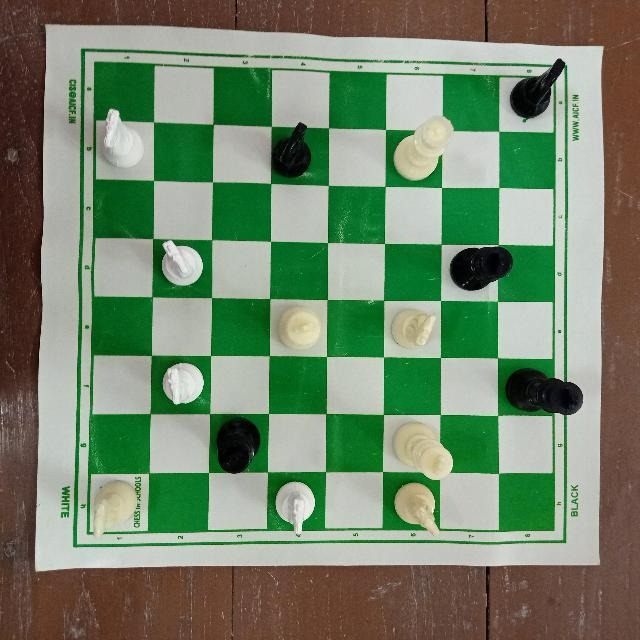black-king: (506, 364, 590, 420), (444, 249, 520, 297), (212, 412, 259, 476)
black-knight: (504, 53, 570, 128), (270, 121, 322, 181)
white-king: (392, 420, 456, 482), (273, 300, 328, 354)
white-knight: (90, 472, 142, 544), (391, 476, 446, 542), (91, 102, 144, 170), (266, 476, 318, 542), (153, 355, 208, 413), (157, 234, 207, 289), (388, 303, 439, 355)
white-queen: (393, 110, 458, 188)
